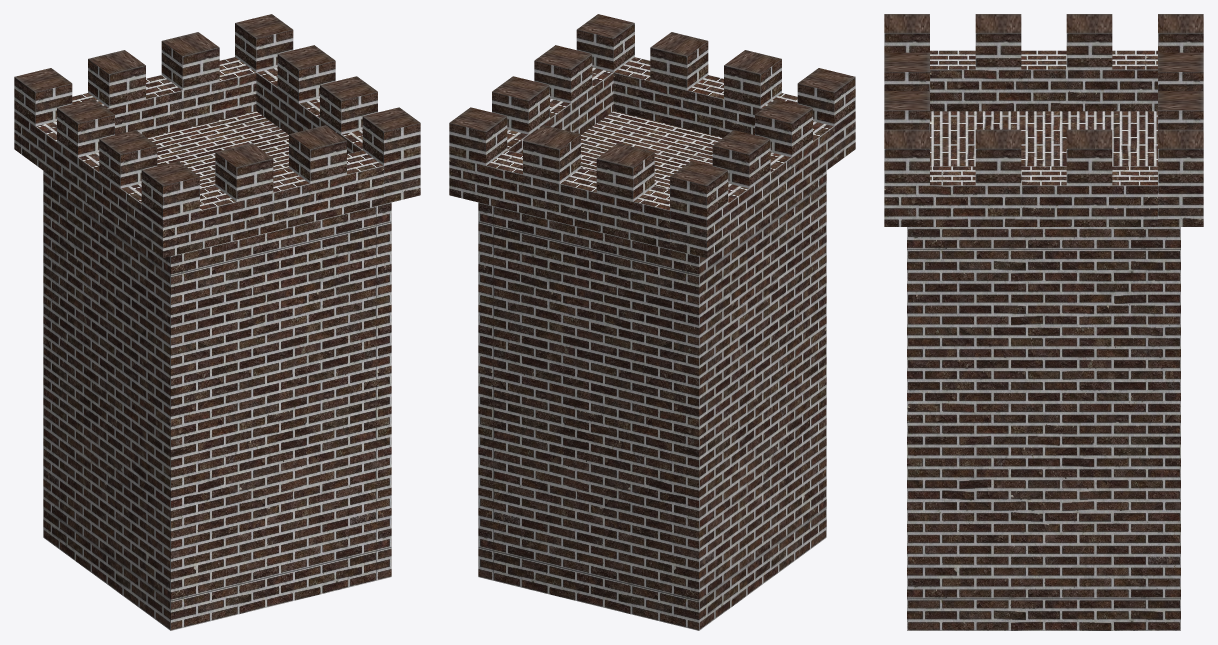
Rendered from WallFortress_corner.dae.
3 renders of one model, left to right at view 1: azimuth 30°, elevation 25°; view 2: azimuth 150°, elevation 25°; view 3: azimuth 270°, elevation 25°, orthographic. The views are drawn at different scales.
Visible parts, largest first — view 1: WallFortress_corner; view 2: WallFortress_corner; view 3: WallFortress_corner.
Part boxes in pixels (<box>): WallFortress_corner: <box>14,14,420,630</box>; WallFortress_corner: <box>449,14,855,630</box>; WallFortress_corner: <box>884,14,1203,630</box>.
Bounding box in the file's own units: 42 × 42 × 71.3.
